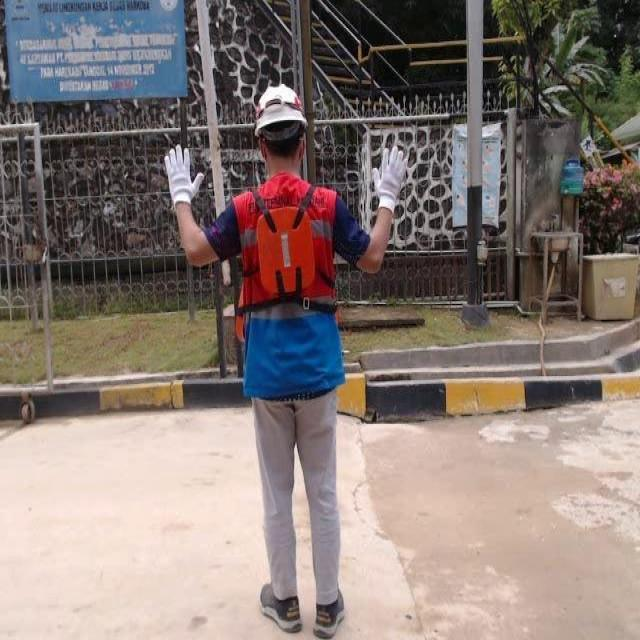Vest: (256, 199, 316, 296)
